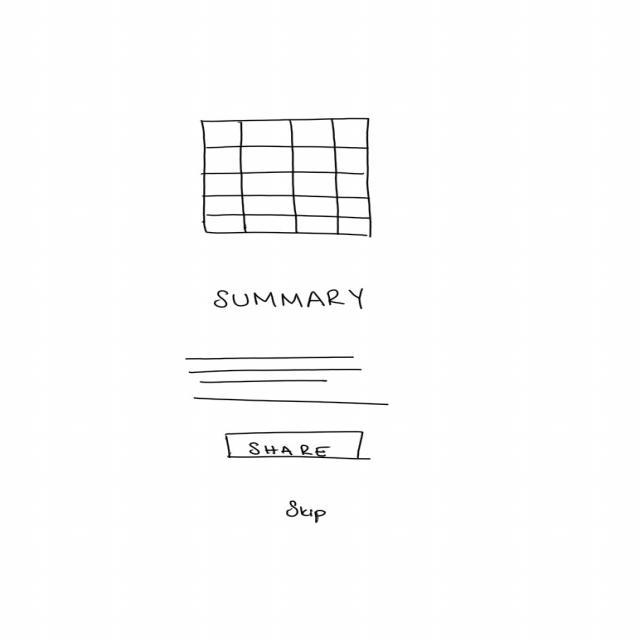button: (224, 429, 366, 462)
label: (212, 286, 368, 312), (283, 498, 329, 524)
table: (200, 116, 374, 240)
textbox: (182, 354, 391, 406)
